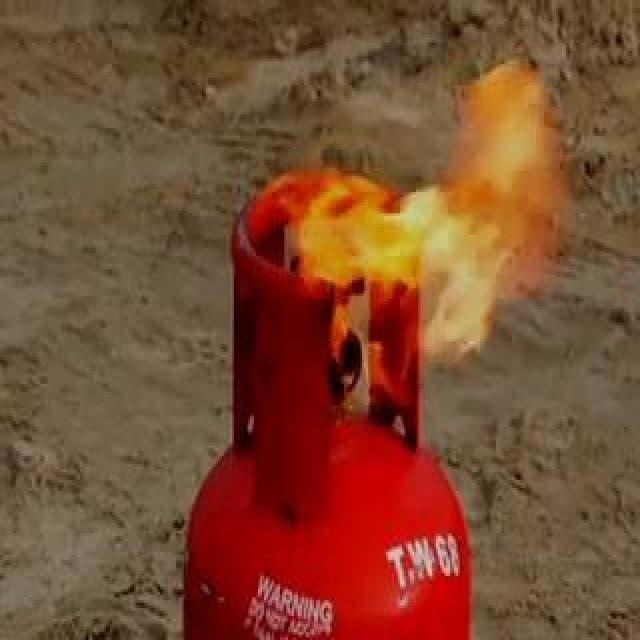Fire: (281, 59, 631, 418)
